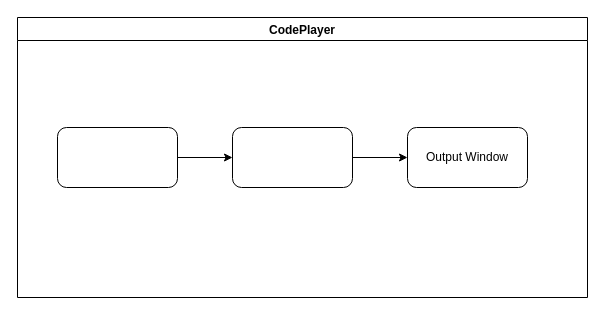
This 605x315 diagram has some shape labels left out. Here are the shapes that lost their labels. From the top down, the centre of each, then its label:
(x=117, y=157): Input Window
(x=292, y=157): UpdateOutput()
